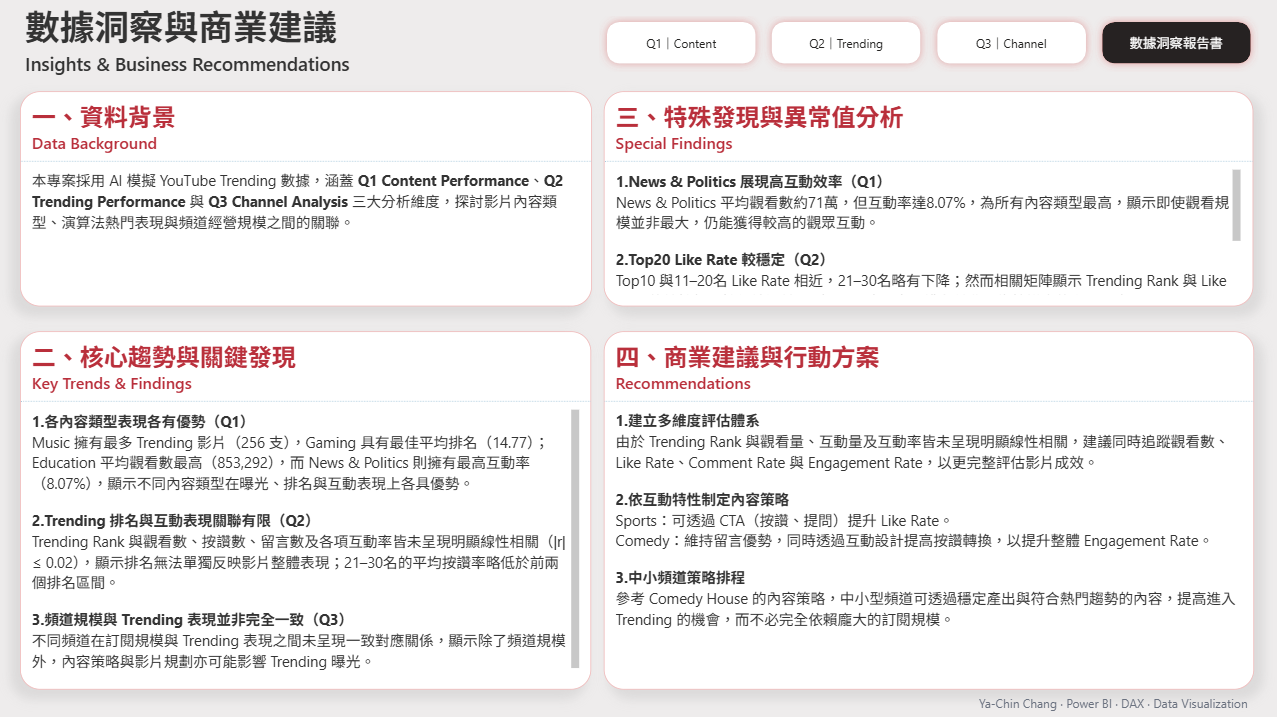

Layout of this report page (visuals, bound fields, positions):
{"tool":"powerbi","page":{"name":"數據洞察報告書","canvas":[1280,720],"ordinal":3},"visuals":[{"type":"textbox","title":"數據洞察與商業建議","box":[19.6,0,409,85],"z":0},{"type":"textbox","title":"一、資料背景","box":[19.6,91.7,572.3,215.2],"z":1000},{"type":"textbox","title":"二、核心趨勢與關鍵發現","box":[20,331.7,571.5,358.4],"z":2000},{"type":"textbox","title":"三、特殊發現與異常值分析 ","box":[604.1,91.7,649.3,215.2],"z":3000},{"type":"textbox","title":"四、商業建議與行動方案 ","box":[603.5,331.7,650.1,358.4],"z":4000},{"type":"textbox","box":[884.6,690.1,367.7,27],"z":5000},{"type":"pageNavigator","box":[598.2,13.3,660.8,58.6],"z":6000}]}

Visuals, with their boxes in screenshot pixels (x1, y1, x2, y2), scaled from the page's 1280x720 canvas onto the 1277x717 screenshot:
"數據洞察與商業建議" textbox: 20:0:428:85
"一、資料背景" textbox: 20:91:591:306
"二、核心趨勢與關鍵發現" textbox: 20:330:590:687
"三、特殊發現與異常值分析 " textbox: 603:91:1250:306
"四、商業建議與行動方案 " textbox: 602:330:1251:687
textbox: 883:687:1249:714
pageNavigator: 597:13:1256:72
